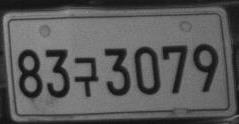0: (134, 46, 161, 95)
3: (103, 47, 131, 96), (45, 48, 70, 98)
7: (162, 44, 188, 93)
8: (16, 48, 42, 99)
9: (192, 43, 218, 93)
구: (74, 56, 99, 97)
